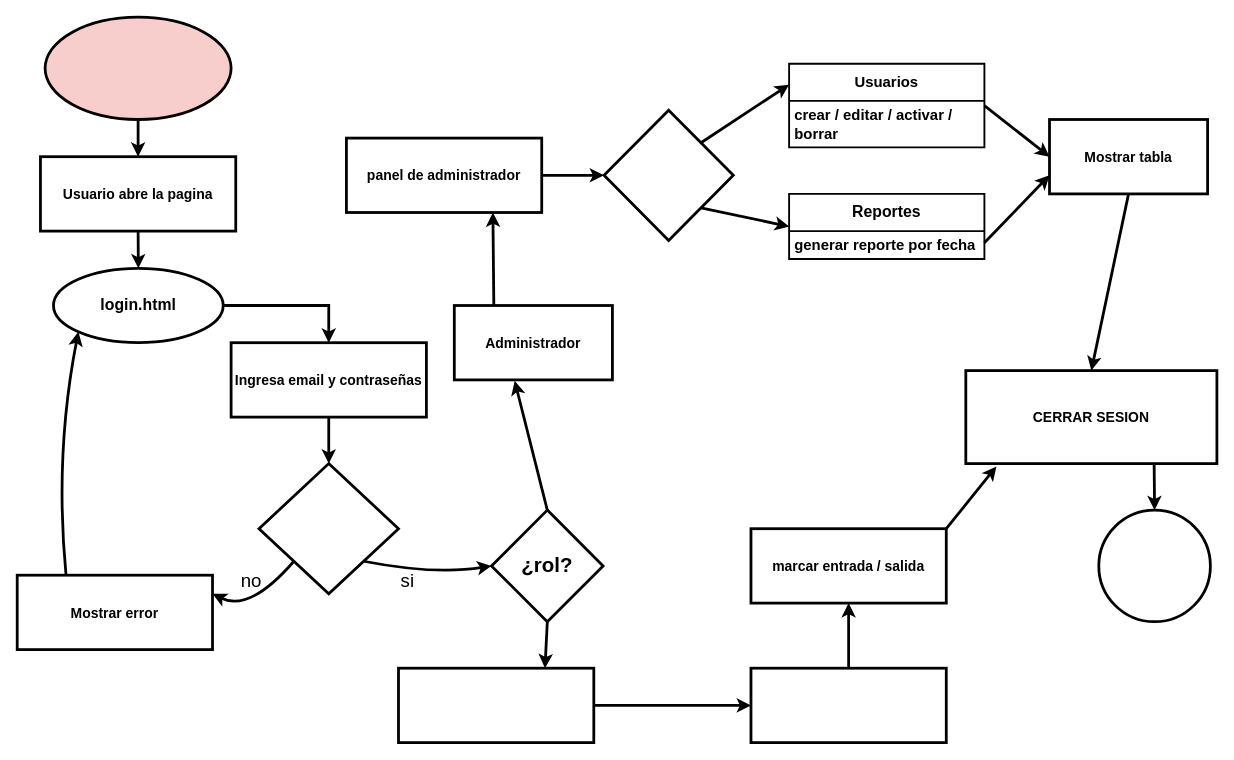
The diagram is 1234 pixels wide and 760 high, and some of its shapes have lost their labels. Each missing label, with the box of its shape:
accion: (602, 108, 734, 241)
dashboard: (749, 666, 947, 744)
Empleado: (397, 666, 595, 744)
FIN: (1097, 508, 1211, 623)
INICIO: (43, 15, 232, 120)
¿Credenciales validas?: (257, 462, 399, 595)
